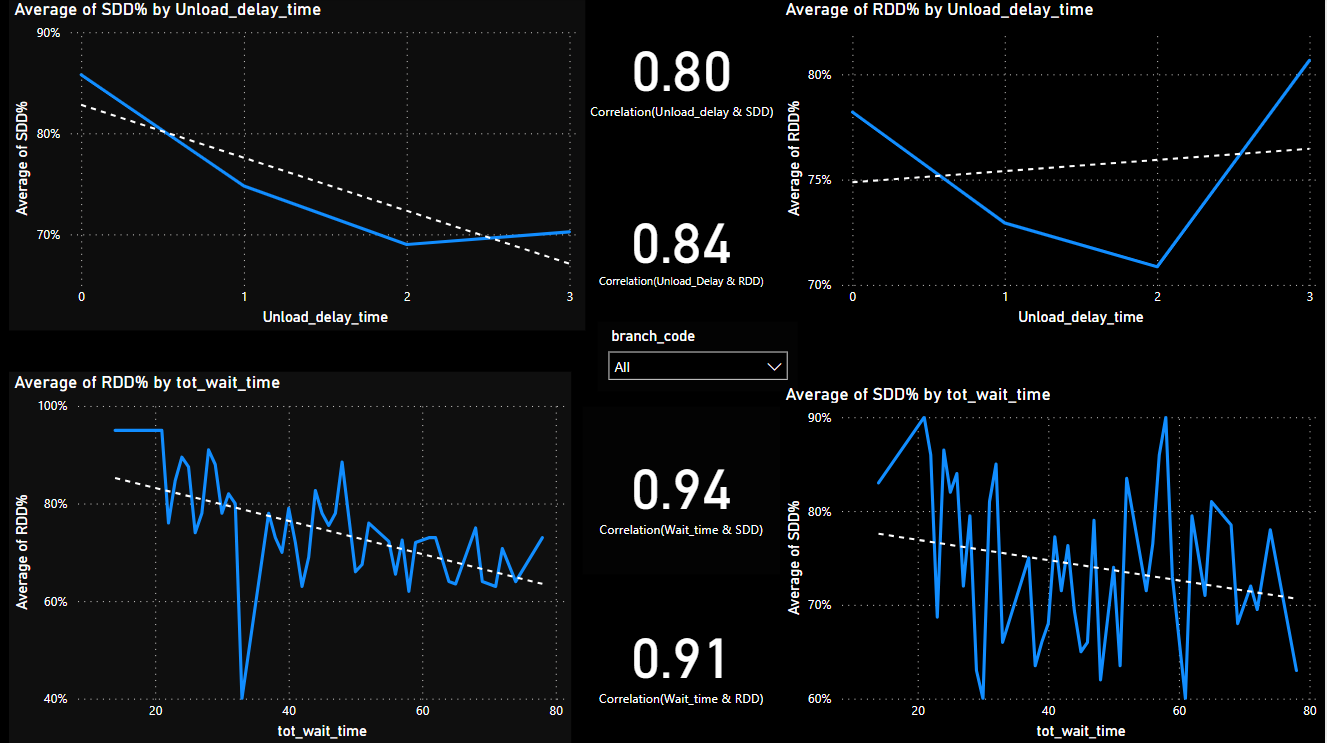

What the dashboard file says about the page in this screenshot:
{"tool":"powerbi","page":{"name":"factors_Affecting kpi","canvas":[1280,720],"ordinal":1},"visuals":[{"type":"lineChart","fields":{"Y":["Avg(delhi_delivery_data_.SDD%)"],"Category":["delhi_delivery_data_.Unload_delay_time"]},"box":[9.6,0,556,320.8],"z":0},{"type":"lineChart","fields":{"Y":["Avg(delhi_delivery_data_.RDD%)"],"Category":["delhi_delivery_data_.tot_wait_time"]},"box":[9.6,360.6,542.7,359.4],"z":1000},{"type":"lineChart","fields":{"Y":["Avg(delhi_delivery_data_.RDD%)"],"Category":["delhi_delivery_data_.Unload_delay_time"]},"box":[753.8,0,525.8,320.8],"z":2000},{"type":"lineChart","fields":{"Y":["Avg(delhi_delivery_data_.SDD%)"],"Category":["delhi_delivery_data_.tot_wait_time"]},"box":[753.8,371.5,525.8,348.5],"z":3000},{"type":"card","fields":{"Values":["delhi_delivery_data_.tot_wait_time and RDD% correlation for date"]},"box":[563.2,556,190.6,164],"z":4000},{"type":"card","fields":{"Values":["delhi_delivery_data_.tot_wait_time and SDD% correlation for date"]},"box":[563.2,394.4,190.6,161.6],"z":5000},{"type":"card","fields":{"Values":["delhi_delivery_data_.Unload_delay_time and RDD% correlation for date"]},"box":[564.4,160.4,188.1,152],"z":6000},{"type":"card","fields":{"Values":["delhi_delivery_data_.Unload_delay_time and SDD% correlation for date"]},"box":[565.6,0,186.9,143.5],"z":7000},{"type":"slicer","fields":{"Values":["delhi_delivery_data_.branch_code"]},"box":[577.7,312.4,193,67.5],"z":8000}]}

Visuals, with their boxes in screenshot pixels (x1, y1, x2, y2), scaled from the page's 1280x720 canvas onto the 1327x743 screenshot:
lineChart - Avg(delhi_delivery_data_.SDD%) x delhi_delivery_data_.Unload_delay_time: bbox=[10, 0, 586, 331]
lineChart - Avg(delhi_delivery_data_.RDD%) x delhi_delivery_data_.tot_wait_time: bbox=[10, 372, 573, 742]
lineChart - Avg(delhi_delivery_data_.RDD%) x delhi_delivery_data_.Unload_delay_time: bbox=[781, 0, 1326, 331]
lineChart - Avg(delhi_delivery_data_.SDD%) x delhi_delivery_data_.tot_wait_time: bbox=[781, 383, 1326, 742]
card - delhi_delivery_data_.tot_wait_time and RDD% correlation for date: bbox=[584, 574, 781, 742]
card - delhi_delivery_data_.tot_wait_time and SDD% correlation for date: bbox=[584, 407, 781, 574]
card - delhi_delivery_data_.Unload_delay_time and RDD% correlation for date: bbox=[585, 166, 780, 322]
card - delhi_delivery_data_.Unload_delay_time and SDD% correlation for date: bbox=[586, 0, 780, 148]
slicer - delhi_delivery_data_.branch_code: bbox=[599, 322, 799, 392]
